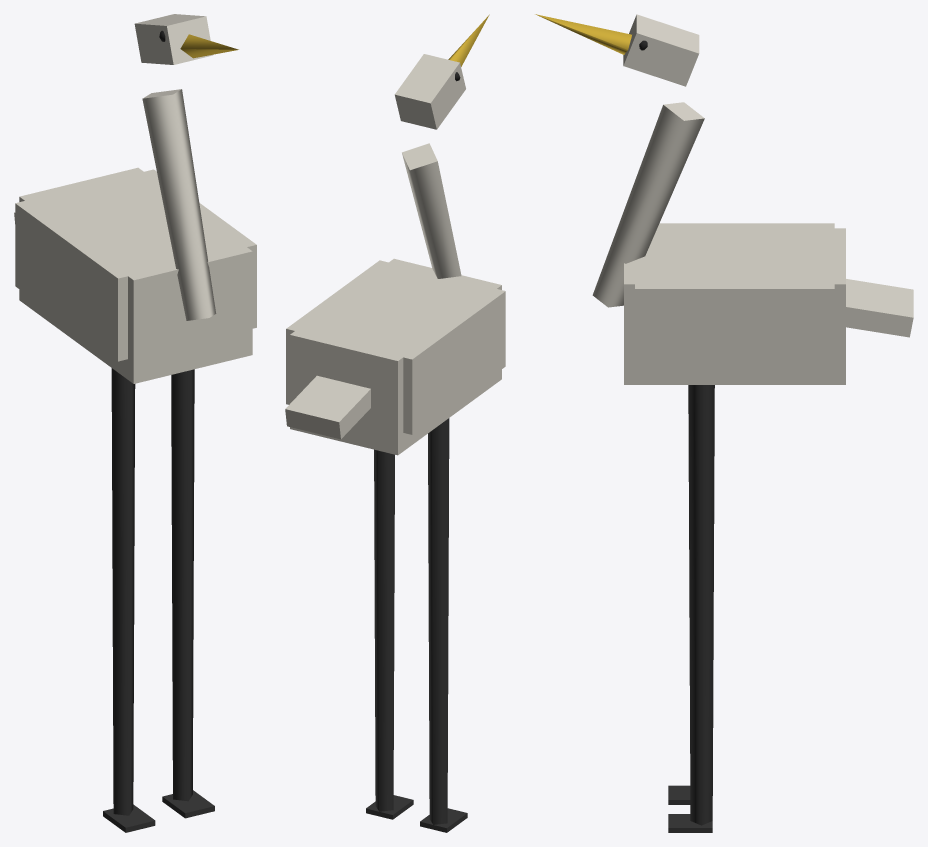
Rendered from egret.glb.
The picture shows the model from 3 angles, left to right: view 1: azimuth 30°, elevation 25°; view 2: azimuth 150°, elevation 25°; view 3: azimuth 270°, elevation 25°; orthographic projection. The views are drawn at different scales.
Parts seen in each view (by area): view 1: Mesh_body, Mesh_left_wing, Mesh_front_left_leg, Mesh_front_right_leg, Mesh_neck, Mesh_head, Mesh_right_wing, Mesh_foot_L, Mesh_foot_R, Mesh_beak; view 2: Mesh_body, Mesh_left_wing, Mesh_front_left_leg, Mesh_front_right_leg, Mesh_neck, Mesh_tail, Mesh_head, Mesh_right_wing, Mesh_foot_L, Mesh_foot_R, Mesh_beak; view 3: Mesh_body, Mesh_right_wing, Mesh_front_right_leg, Mesh_neck, Mesh_head, Mesh_tail, Mesh_beak, Mesh_left_wing.
Boxes of the visible parts, x1,y1,x2,y2 form: Mesh_body: (19,167,252,383); Mesh_left_wing: (15,201,127,361); Mesh_front_left_leg: (111,368,135,815); Mesh_front_right_leg: (171,369,194,801); Mesh_neck: (142,89,216,320); Mesh_head: (134,14,212,64); Mesh_right_wing: (144,169,256,328); Mesh_foot_L: (103,804,155,832); Mesh_foot_R: (162,790,214,818); Mesh_beak: (180,34,238,58); Mesh_body: (290,258,501,455); Mesh_left_wing: (403,289,505,434); Mesh_front_left_leg: (428,418,449,824); Mesh_front_right_leg: (374,449,394,811); Mesh_neck: (402,143,461,278); Mesh_tail: (285,375,370,439); Mesh_head: (394,54,465,129); Mesh_right_wing: (286,260,388,404); Mesh_foot_L: (420,808,467,832); Mesh_foot_R: (366,795,413,819); Mesh_beak: (448,14,489,66); Mesh_body: (624,228,845,384); Mesh_right_wing: (635,284,834,369); Mesh_front_right_leg: (688,385,714,825); Mesh_neck: (592,102,704,307); Mesh_head: (623,14,699,86); Mesh_tail: (846,279,913,337); Mesh_beak: (535,14,631,54); Mesh_left_wing: (657,223,834,228).
Bounding box in the file's own units: 0.14 × 0.7935 × 0.3419.
